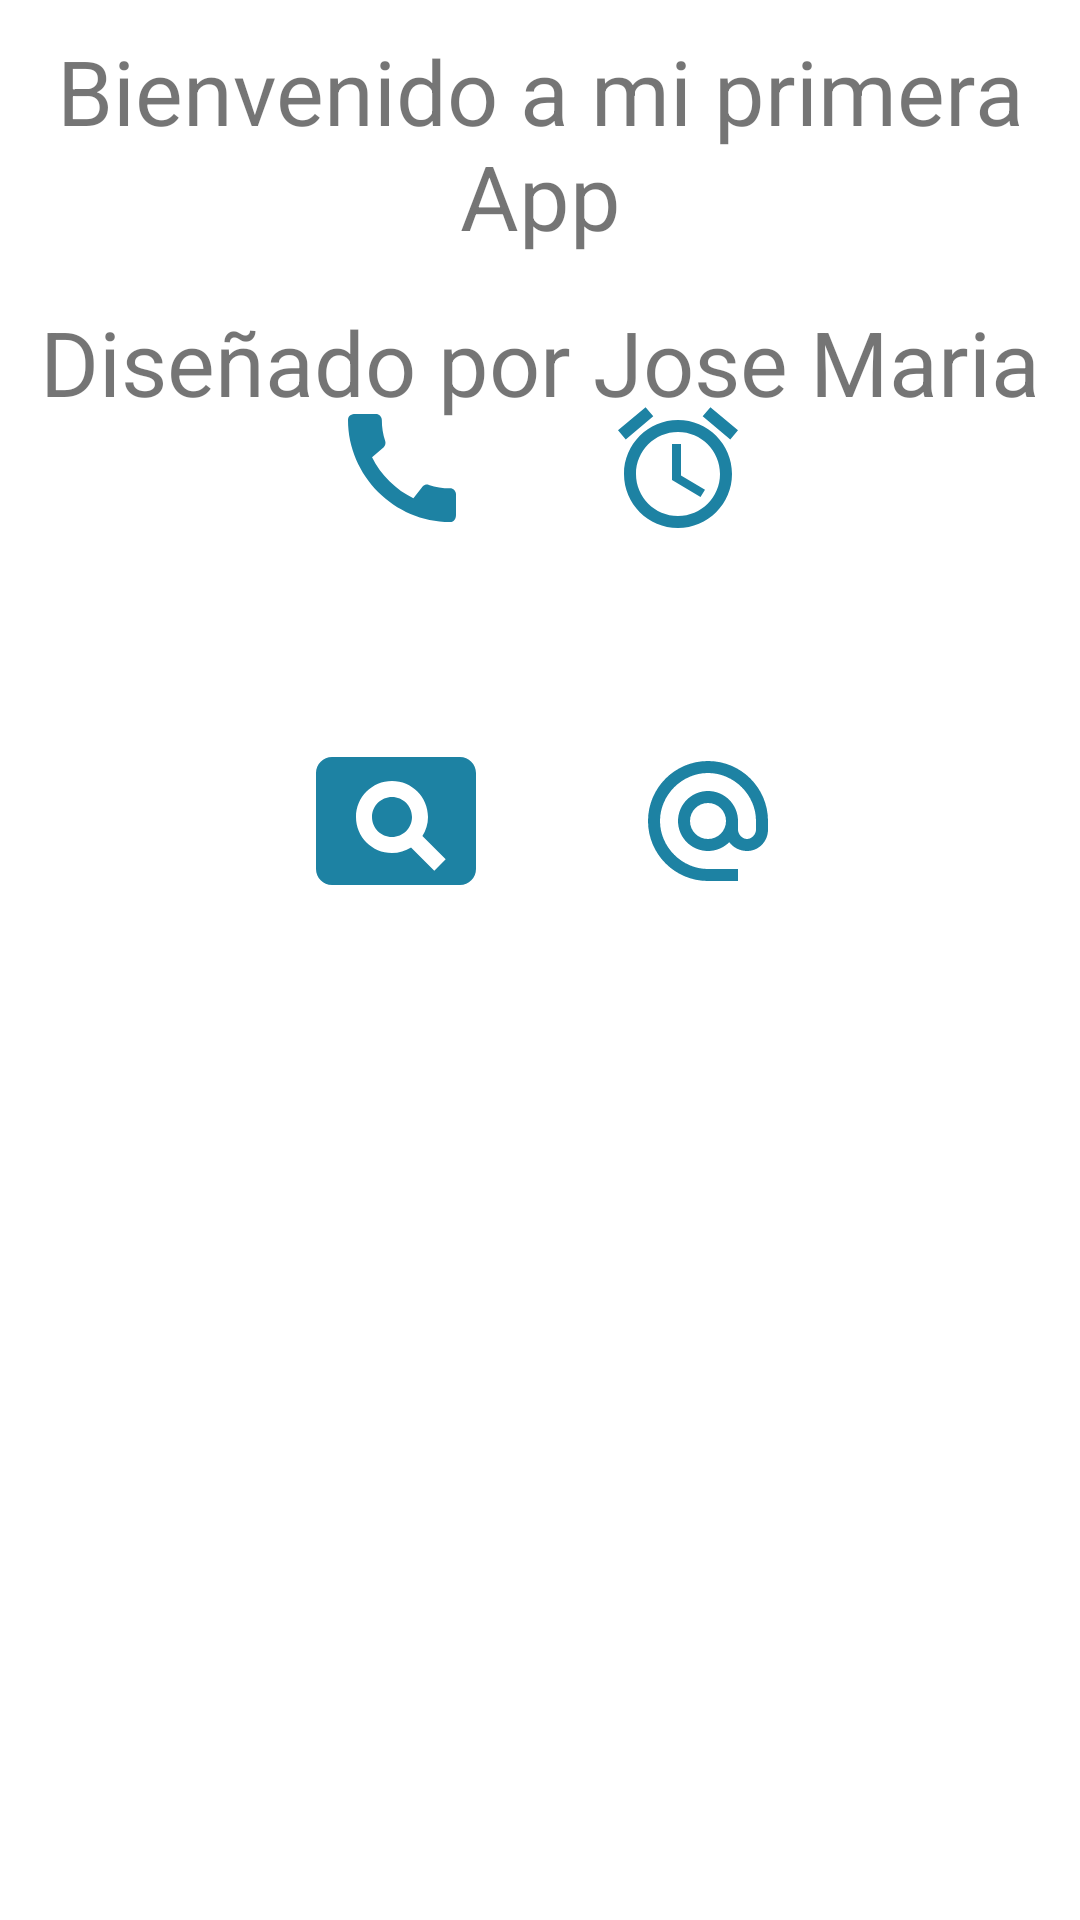

Icon click points for this 1080w x 1920h phone screenshot, format (x,y):
esto es el correo electronico: (708,821)
llamar por telefono: (402,468)
